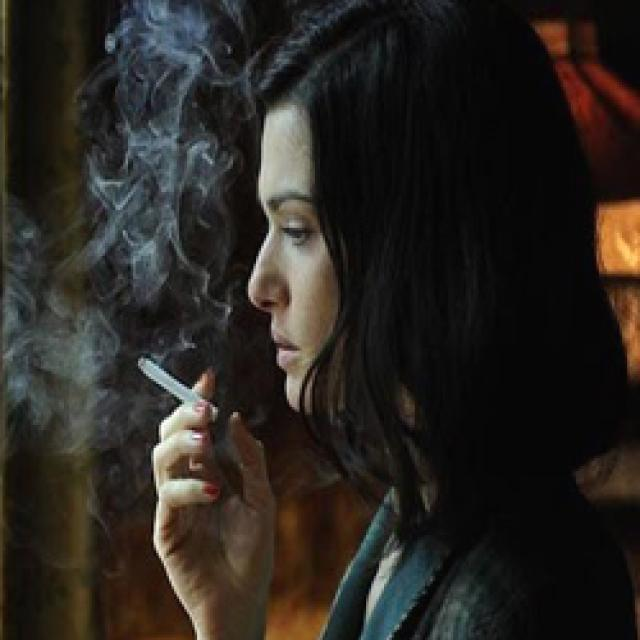Smooking: (130, 352, 238, 426)
